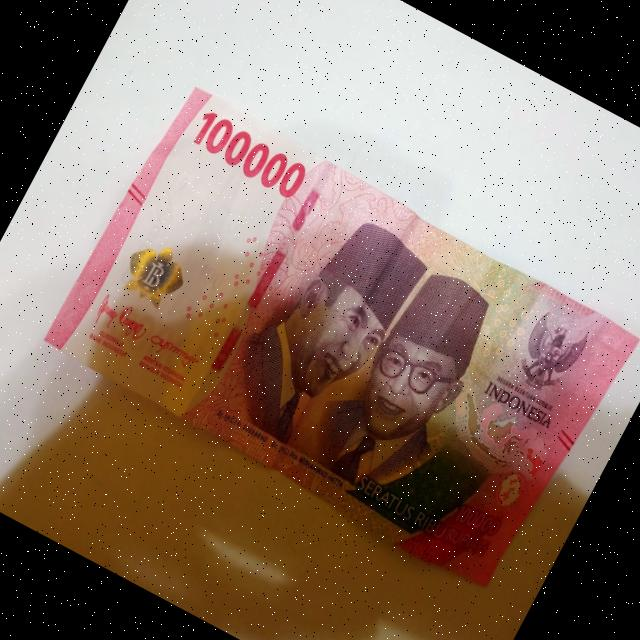100K: (26, 73, 640, 610)
